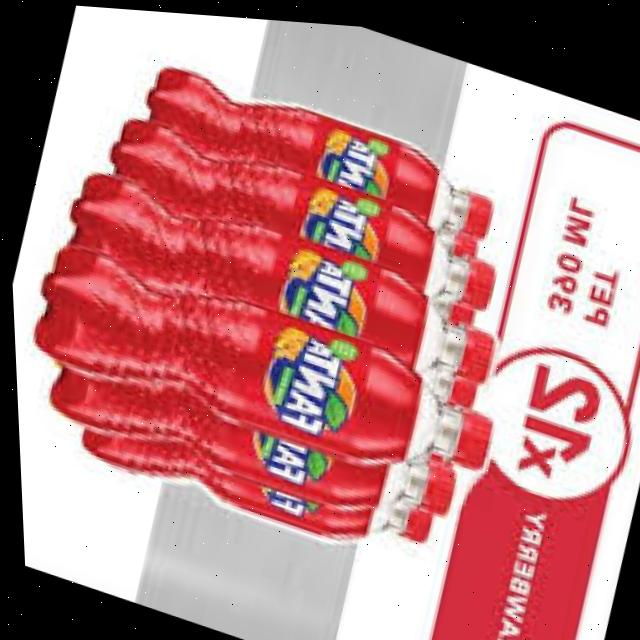Dry: (26, 224, 516, 495), (35, 285, 481, 522), (52, 162, 502, 394), (100, 107, 504, 317), (62, 354, 446, 561), (134, 46, 509, 245)
